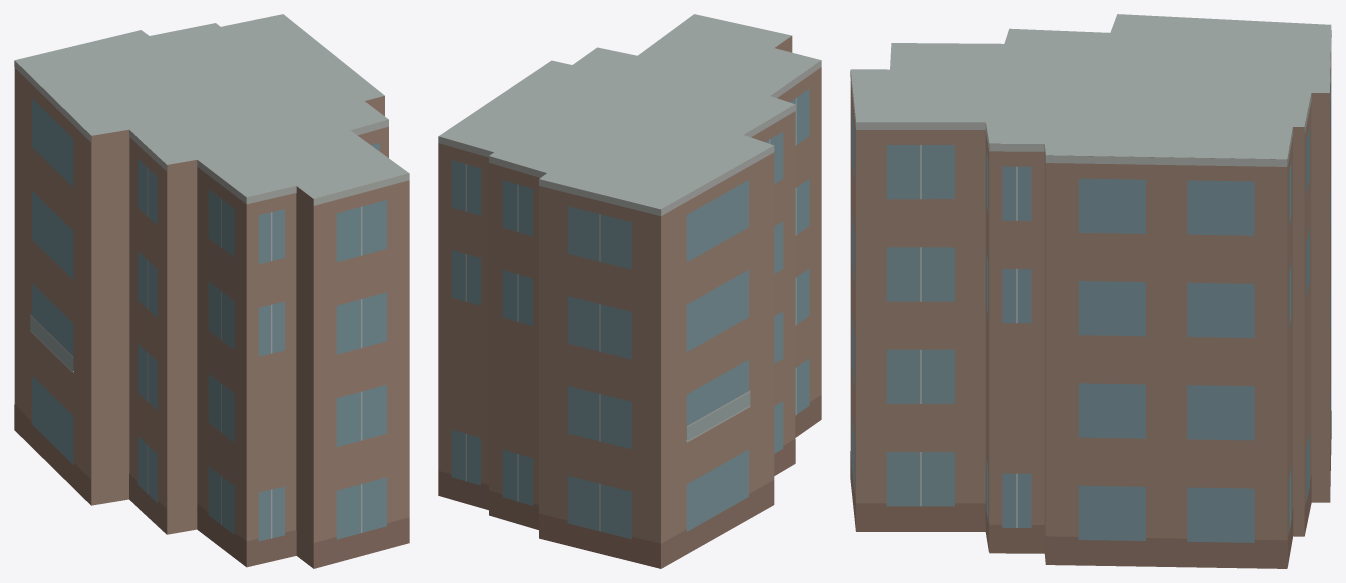
The model's file is survey-upis-32976788.glb.
3 renders of one model, left to right at view 1: azimuth 30°, elevation 25°; view 2: azimuth 150°, elevation 25°; view 3: azimuth 270°, elevation 25°, orthographic. The views are drawn at different scales.
Parts seen in each view (by area): view 1: survey-upis-32976788.tmp; view 2: survey-upis-32976788.tmp; view 3: survey-upis-32976788.tmp.
Boxes of the visible parts, bbox=[...] form: survey-upis-32976788.tmp: bbox=[14, 14, 409, 568]; survey-upis-32976788.tmp: bbox=[438, 14, 821, 568]; survey-upis-32976788.tmp: bbox=[850, 14, 1331, 568].
Bounding box in the file's own units: 9.9 × 13 × 13.84.
